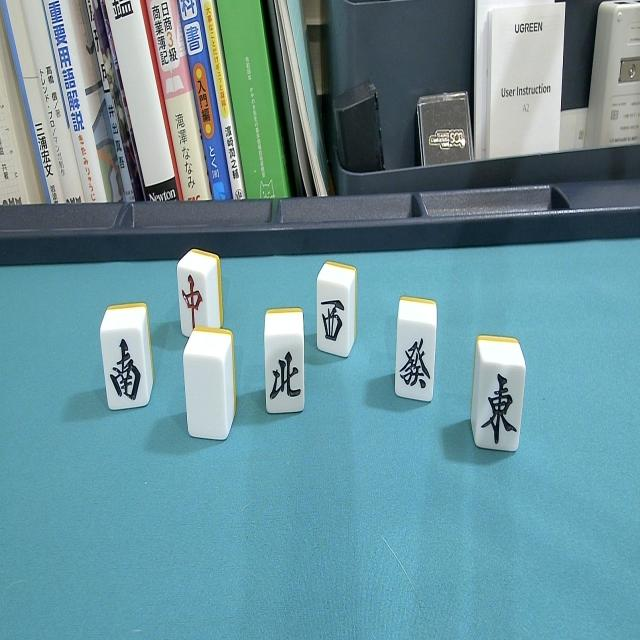chun: (176, 244, 224, 342)
haku: (180, 322, 238, 448)
hatsu: (392, 296, 440, 412)
nan: (100, 300, 154, 420)
pe-: (262, 306, 308, 423)
sya-: (314, 259, 358, 364)
ton: (469, 333, 526, 465)
